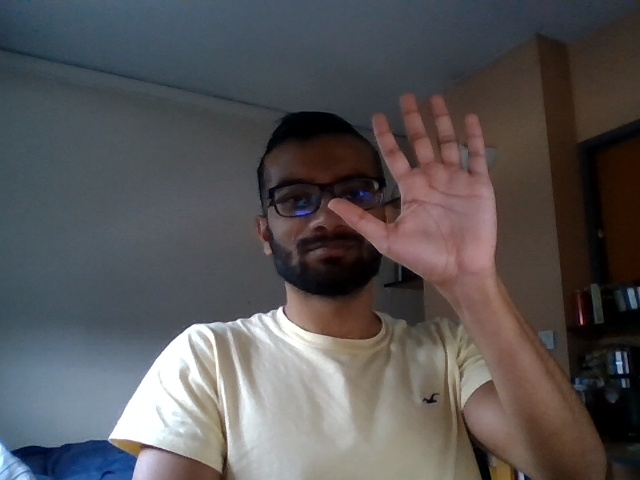Hello: (324, 81, 515, 290)
